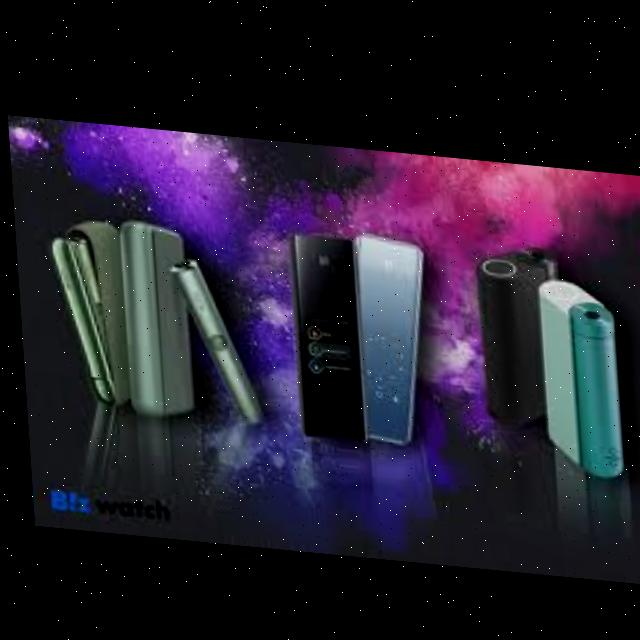vape: (536, 266, 620, 467), (167, 255, 263, 421), (476, 234, 562, 417)
